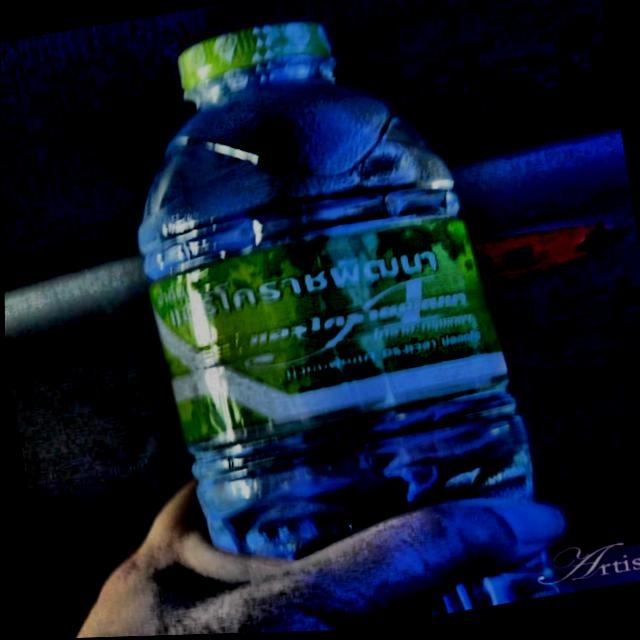Bottles: (75, 0, 590, 638)
